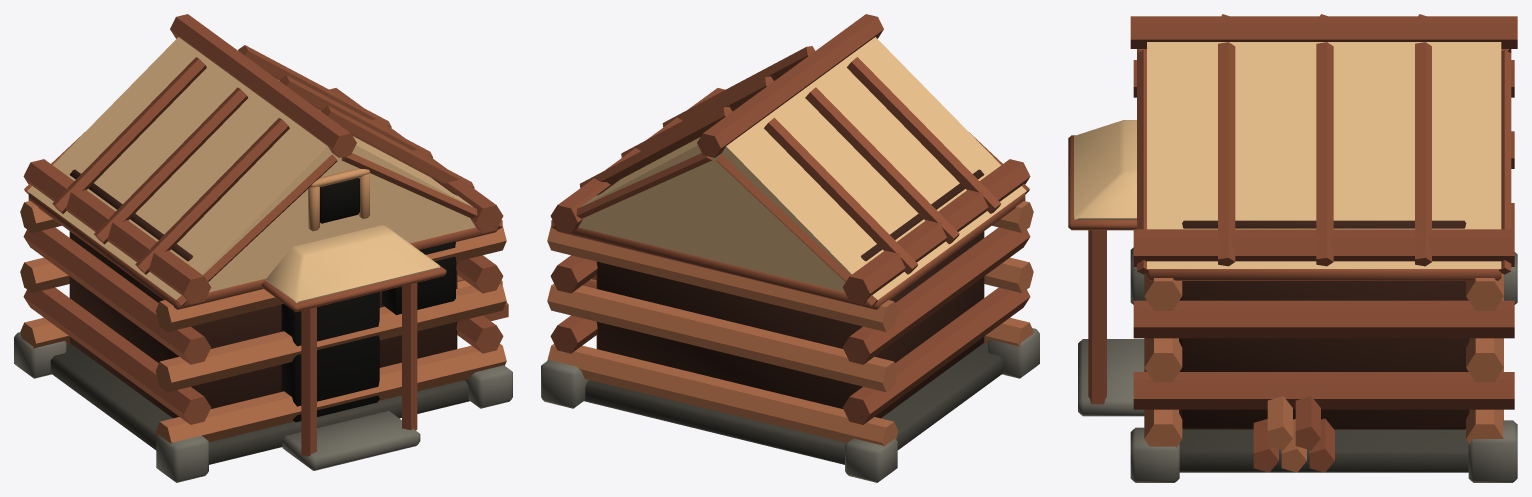
Rendered from Hut.glb.
3 renders of one model, left to right at view 1: azimuth 30°, elevation 25°; view 2: azimuth 150°, elevation 25°; view 3: azimuth 270°, elevation 25°, orthographic. The views are drawn at different scales.
Parts seen in each view (by area): view 1: Hut; view 2: Hut; view 3: Hut.
Part boxes in pixels (x1,y1,x2,y2): Hut: (14, 14, 512, 482); Hut: (541, 14, 1039, 482); Hut: (1068, 14, 1517, 482).
Size of the model in its own units: 3.22 by 2.47 by 2.74.
